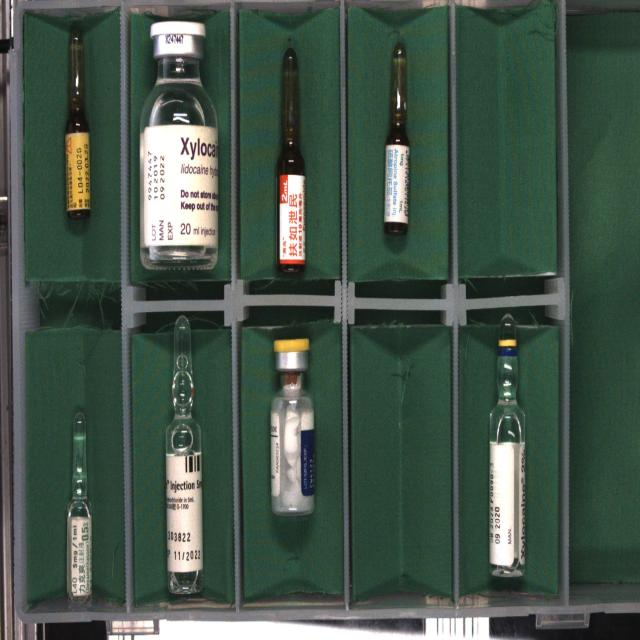Vials: (140, 21, 219, 269), (271, 338, 314, 514)
